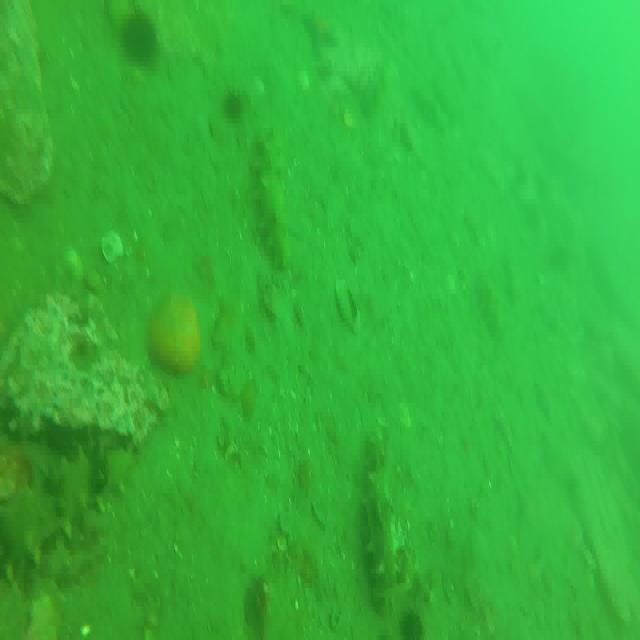echinus: (124, 8, 158, 72), (221, 88, 248, 123)
holothurian: (0, 450, 142, 573), (362, 432, 396, 611), (252, 132, 292, 273)
